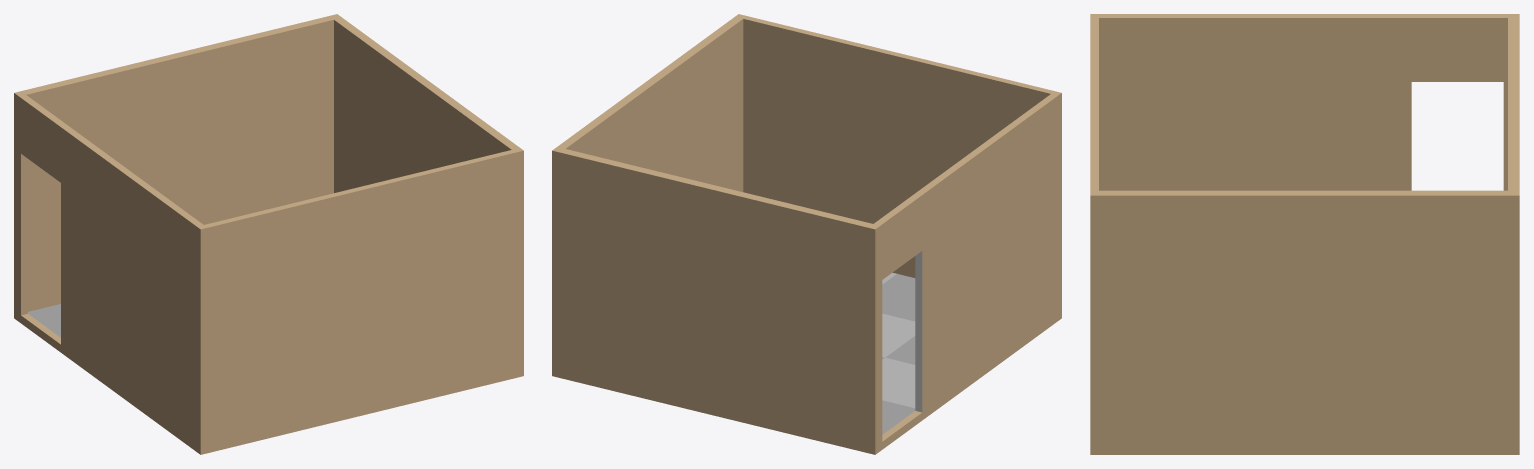
File: room.fbx
3 views of the same model, side by side, from view 1: azimuth 30°, elevation 25°; view 2: azimuth 150°, elevation 25°; view 3: azimuth 270°, elevation 25° (orthographic). The views are drawn at different scales.
Parts seen in each view (by area): view 1: Group1; view 2: Group1; view 3: Group1.
Boxes of the visible parts, x1,y1,x2,y2 form: Group1: (14, 14, 523, 454); Group1: (552, 14, 1061, 454); Group1: (1090, 14, 1519, 454).
Bounding box in the file's own units: 4200 × 2800 × 4200.
